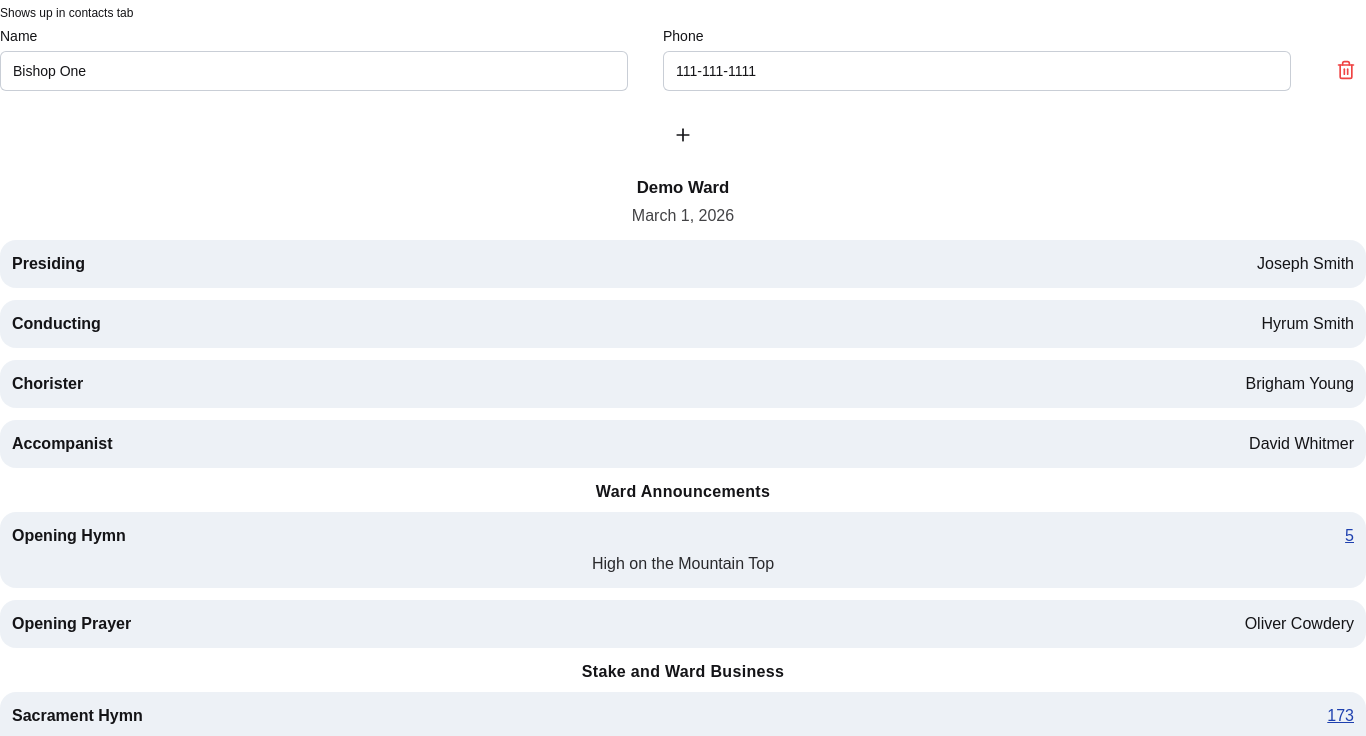
Test: Ward-facing layout integration › reflects added and removed ward contacts from block edits
This screenshot has width=1366, height=736.
Click the 2nd button.
click(683, 135)  # box [663, 115, 703, 155]
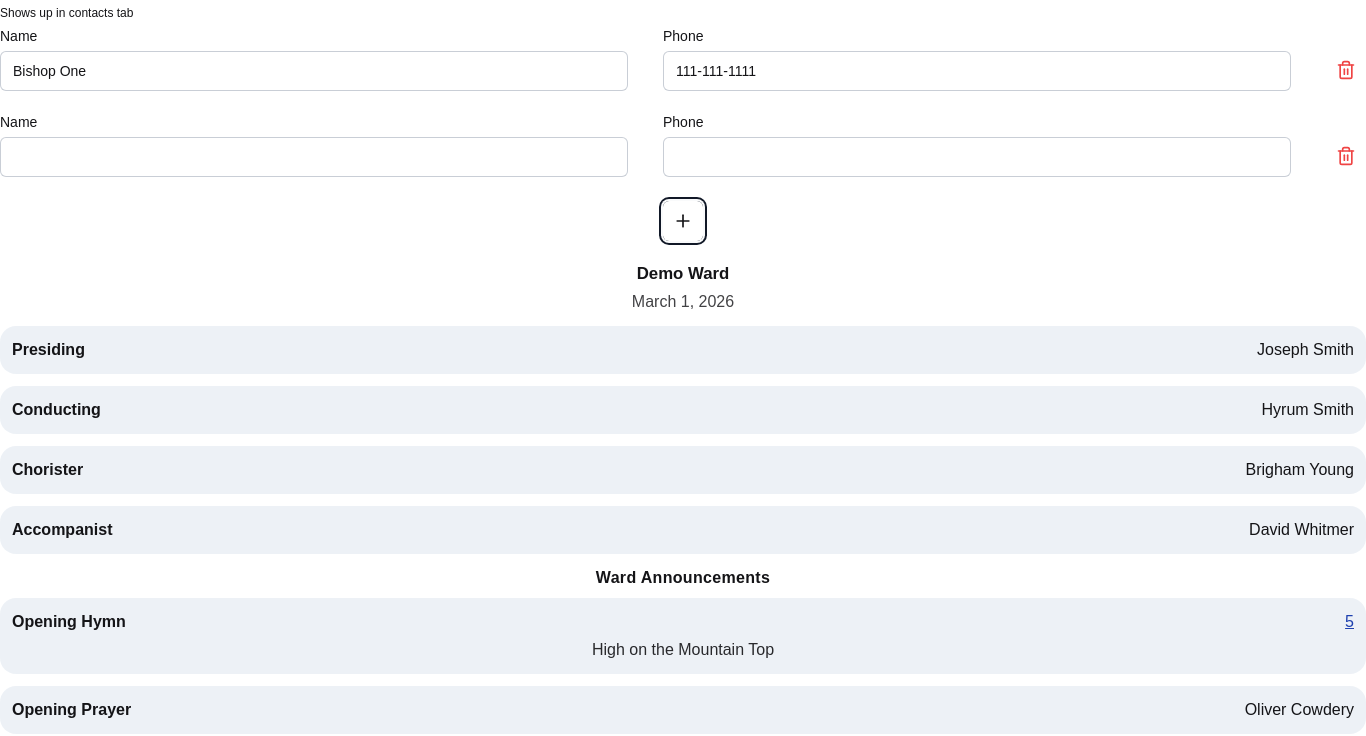
Type "Relief Society President" into the 2nd field labelled "Name".
click(314, 157); type("Relief Society President")  # box [0, 137, 628, 177]
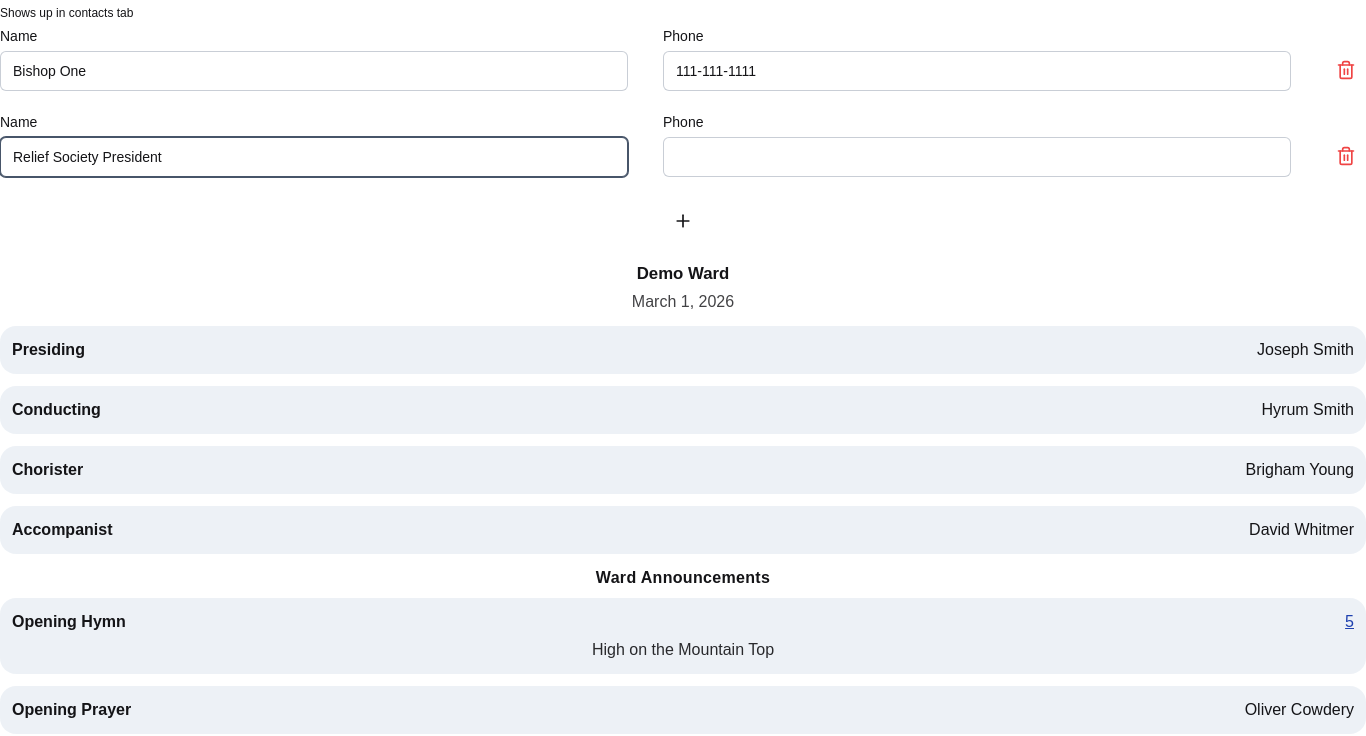
Type "222-222-2222" into the 2nd field labelled "Phone".
click(977, 157); type("222-222-2222")  # box [663, 137, 1291, 177]
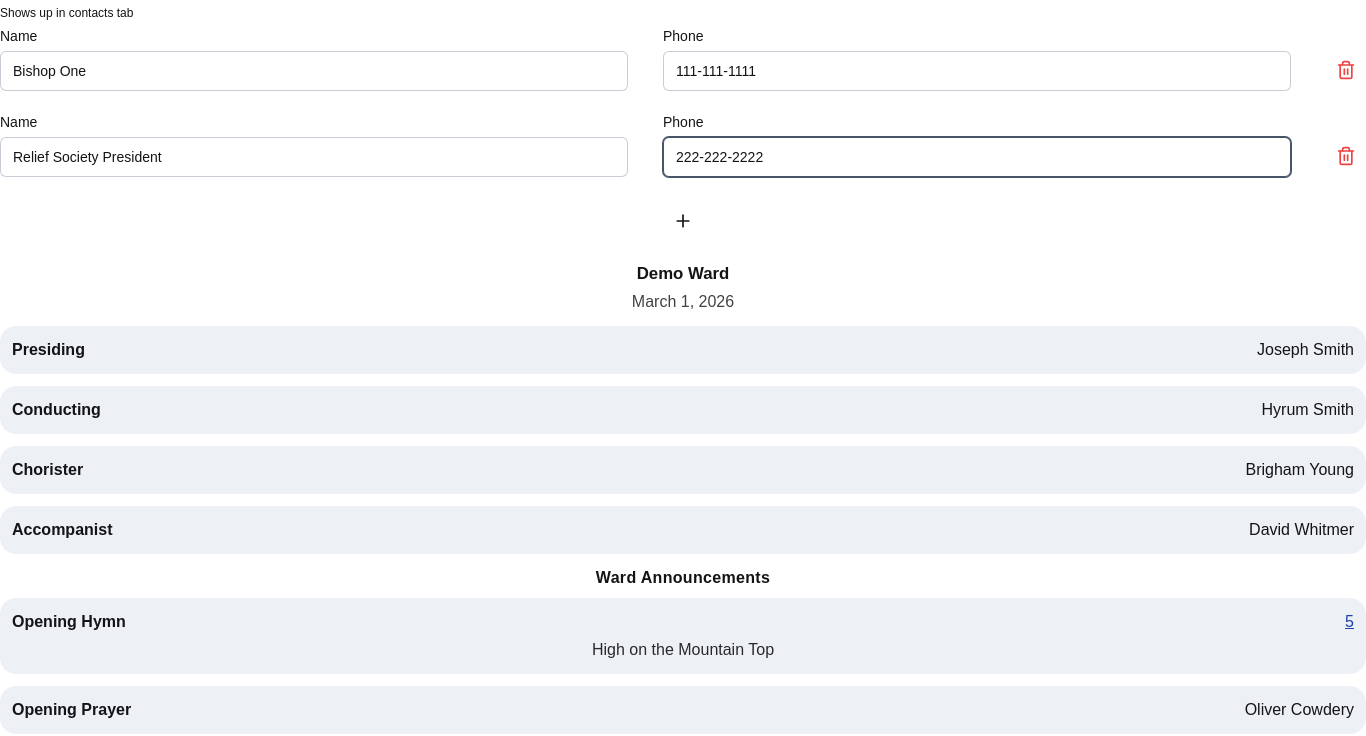
Click the 1st button.
click(1346, 70)  # box [1326, 50, 1365, 90]
(page scrolled)
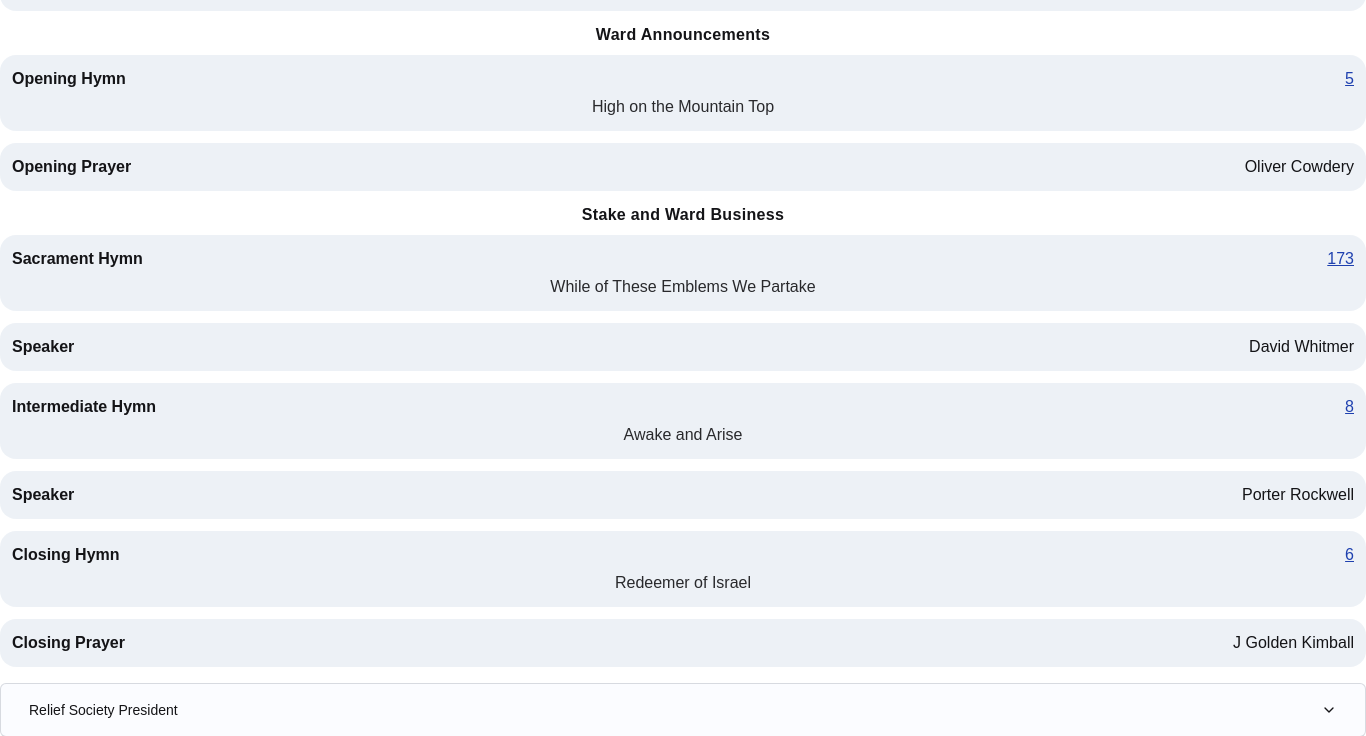
Expected: the text "Relief Society President" is shown, [29, 702, 178, 718]
